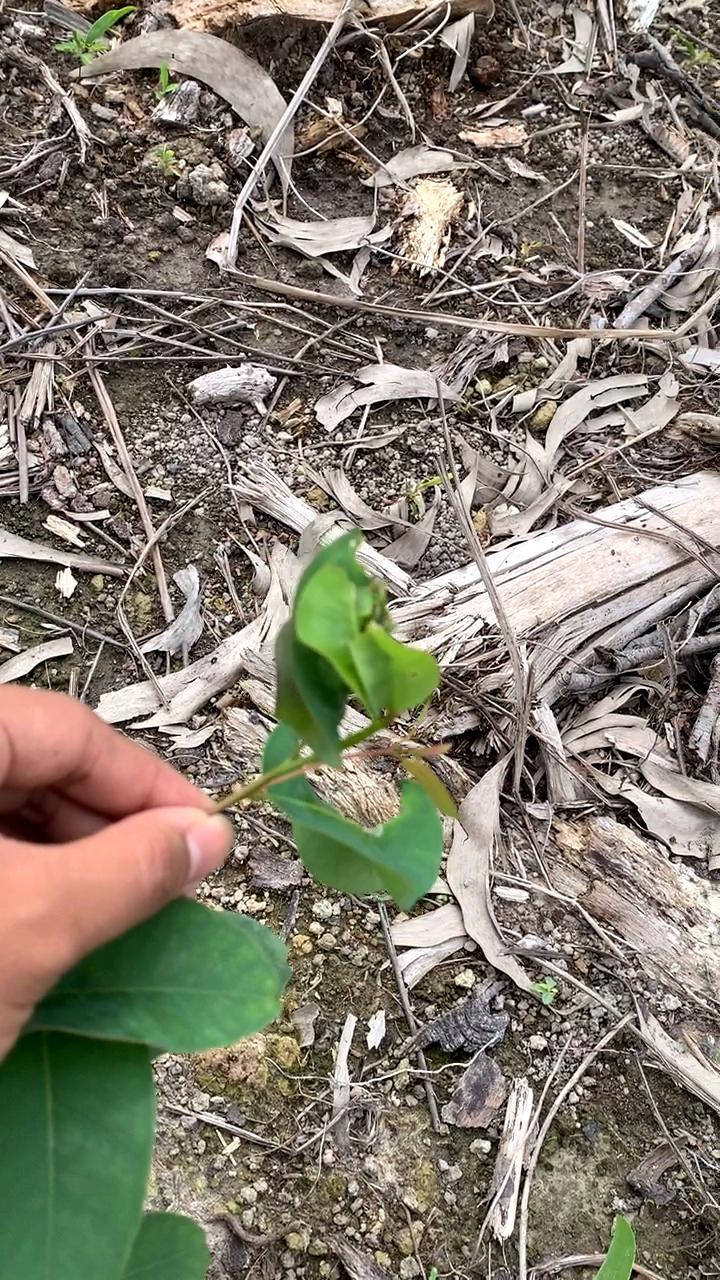Leaf Roller - Leaf: (247, 528, 445, 786)
